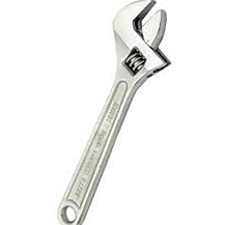Wrench: (70, 3, 173, 225)
